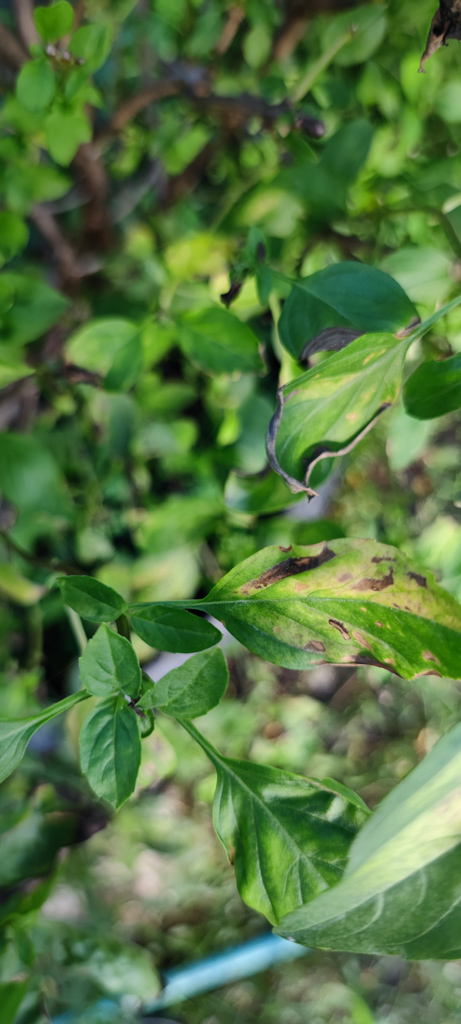Pepper yellow leaf: (227, 542, 456, 682)
